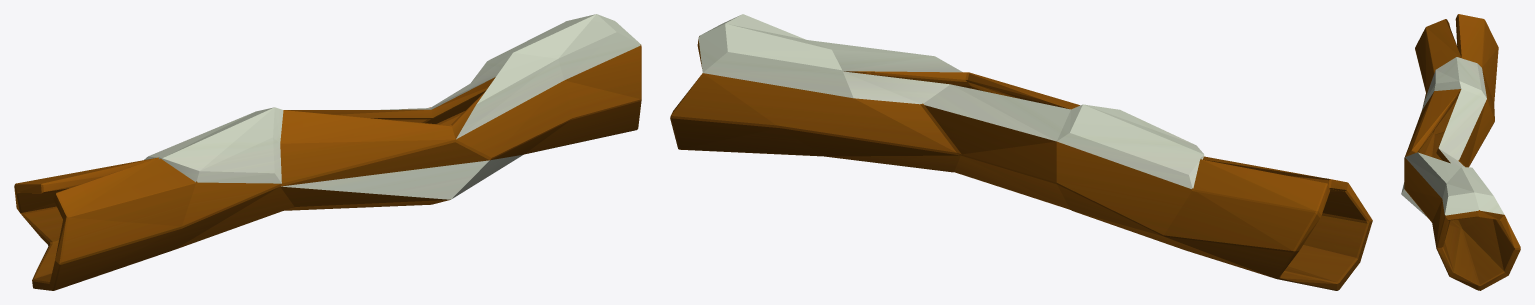
Rendered from log_mossy.glb.
3 renders of one model, left to right at view 1: azimuth 30°, elevation 25°; view 2: azimuth 150°, elevation 25°; view 3: azimuth 270°, elevation 25°, orthographic. The views are drawn at different scales.
Visible parts, largest first — view 1: Wooden Log_1_5_A; view 2: Wooden Log_1_5_A; view 3: Wooden Log_1_5_A.
Boxes of the visible parts, box(x1,y1,x2,y2) form: Wooden Log_1_5_A: box(14, 14, 641, 290); Wooden Log_1_5_A: box(670, 14, 1372, 290); Wooden Log_1_5_A: box(1401, 14, 1520, 290).
Size of the model in its own units: 1.8 by 0.35 by 0.43.
Materials: 1 (1 with a texture image).
